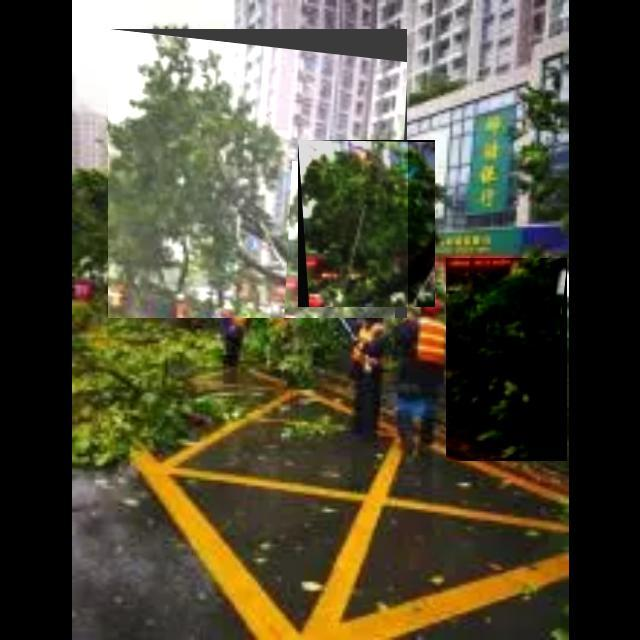fallen_tree: (108, 29, 408, 319), (446, 258, 568, 462), (298, 140, 436, 308)
